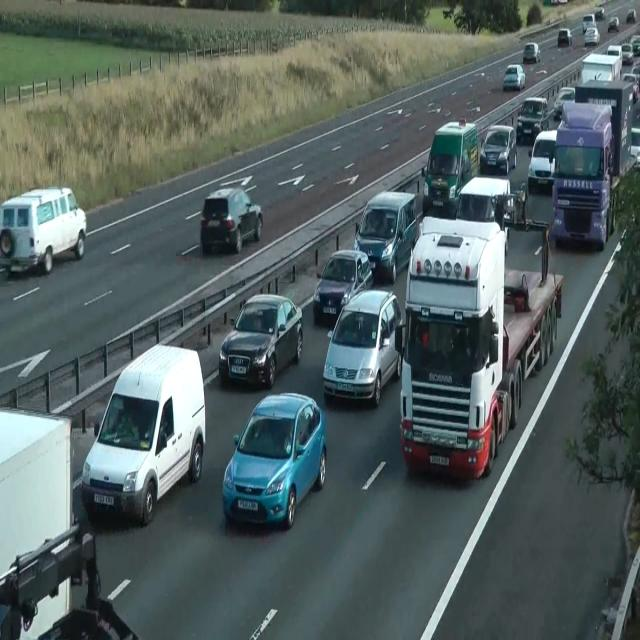bus: (0, 522, 140, 639), (221, 391, 327, 530), (323, 288, 403, 408), (454, 175, 526, 255), (313, 248, 373, 326), (479, 124, 517, 175), (527, 130, 557, 193), (516, 96, 548, 143), (553, 85, 575, 120), (503, 64, 525, 91), (622, 73, 638, 104), (630, 126, 640, 164), (522, 42, 540, 63), (584, 26, 600, 46), (606, 44, 622, 64), (620, 43, 634, 65), (582, 14, 595, 34), (558, 28, 572, 46), (629, 34, 639, 56), (607, 16, 619, 32), (626, 9, 636, 22), (595, 8, 605, 20), (550, 0, 567, 4)
car: (550, 100, 616, 250)
jeep: (80, 342, 206, 526), (218, 292, 303, 388), (0, 184, 86, 275), (353, 190, 417, 284), (199, 187, 263, 254)
minibus: (396, 215, 564, 480), (0, 406, 74, 584), (574, 79, 640, 178), (421, 117, 479, 216), (580, 51, 622, 84)
